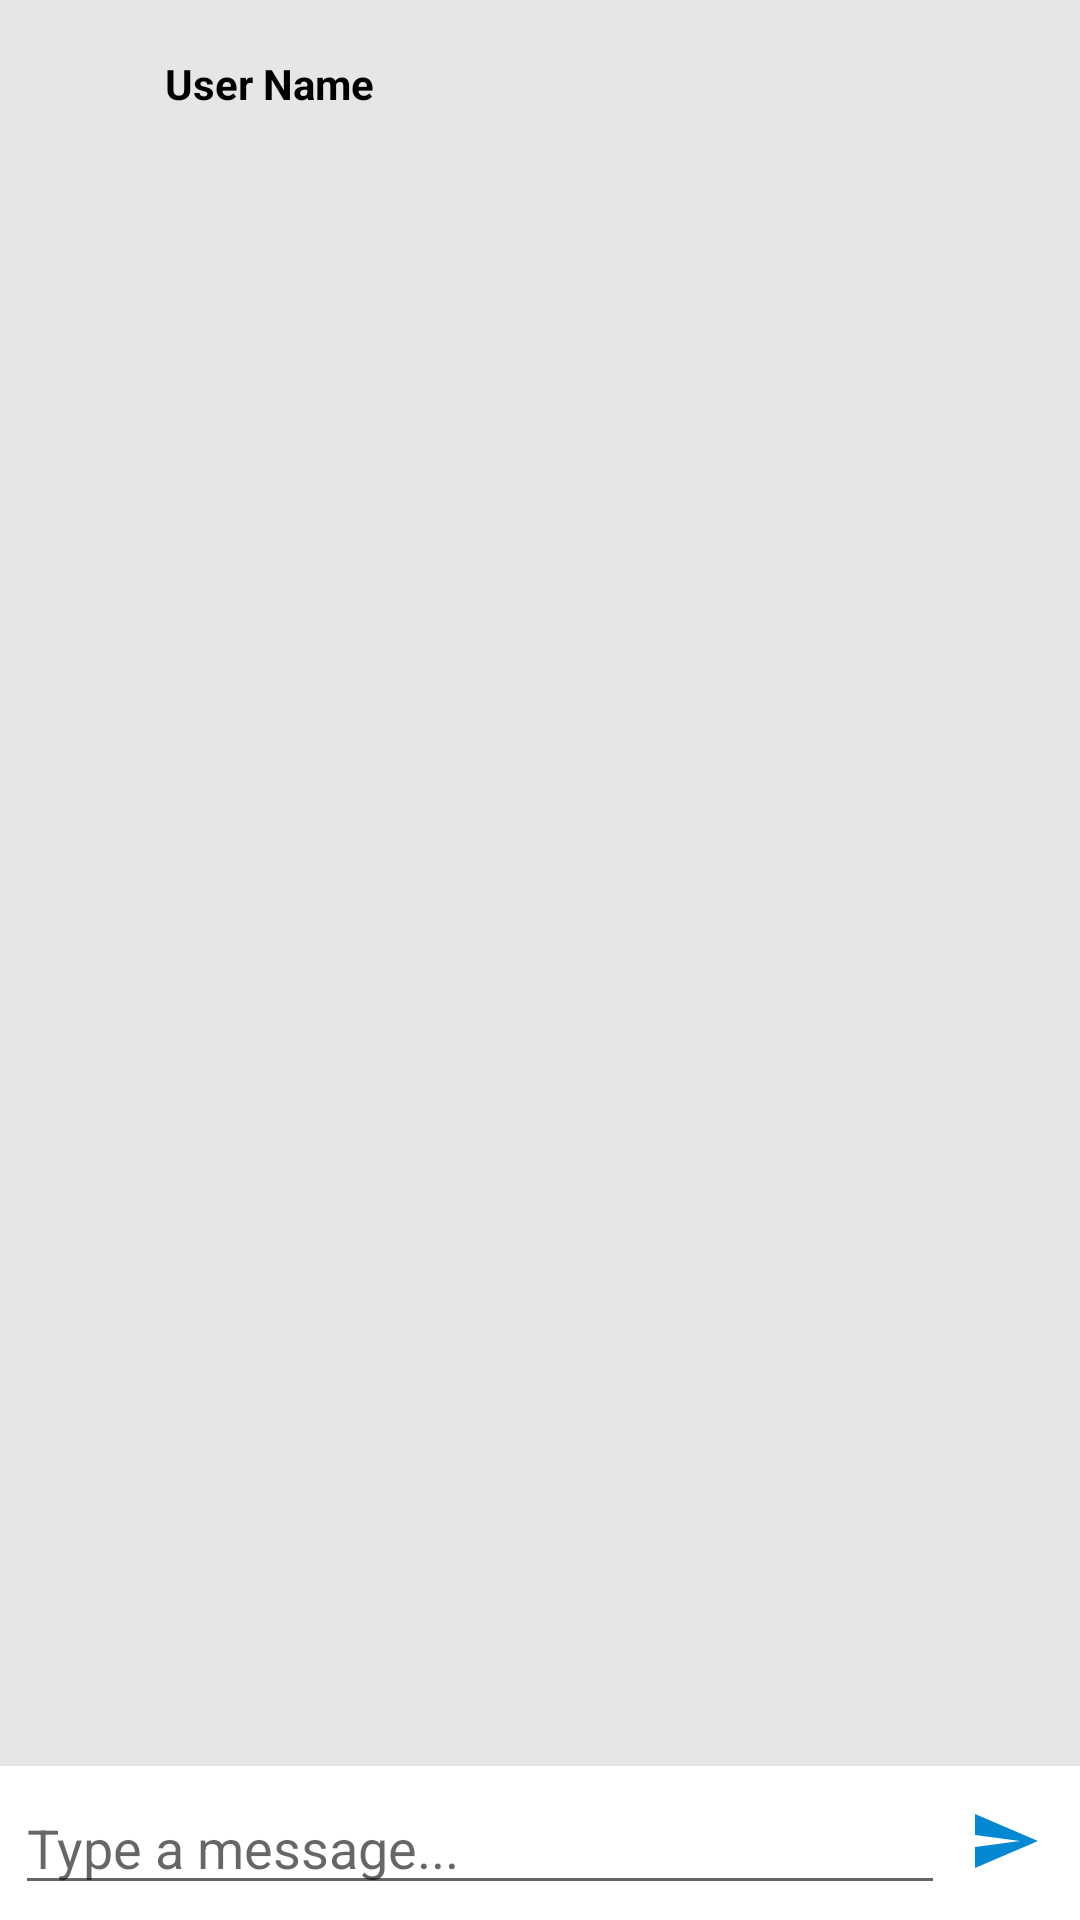

Screen size 1080x1920. Icon name, then its box in pixels as (x1, y1, x2, y2):
send: (975, 1814, 1038, 1868)
